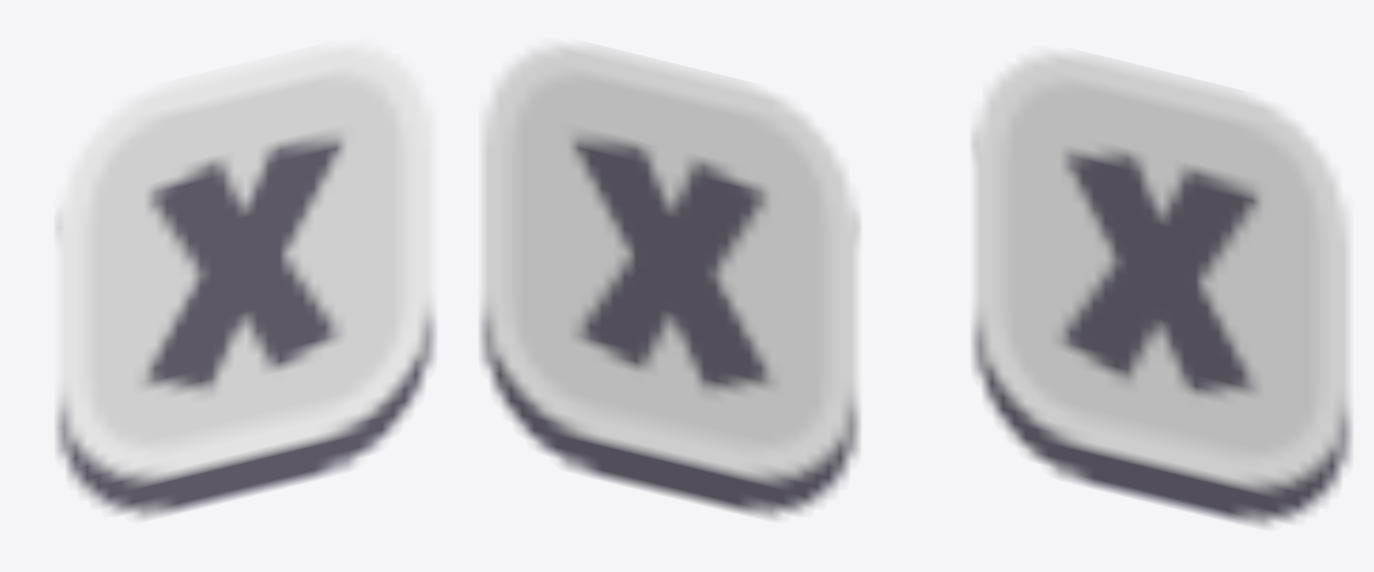
Rendered from MissionPopup.prefab.glb.
The picture shows the model from 3 angles, left to right: view 1: azimuth 30°, elevation 25°; view 2: azimuth 150°, elevation 25°; view 3: azimuth 330°, elevation 25°; orthographic projection.
Parts seen in each view (by area): view 1: CloseButton; view 2: CloseButton; view 3: CloseButton.
Boxes of the visible parts, x1,y1,x2,y2 form: CloseButton: (55, 40, 436, 519); CloseButton: (479, 40, 860, 519); CloseButton: (971, 48, 1352, 527).
Size of what is drawn, in the model's own units: 57.79 by 56.45 by 0.
Materials: 1 (1 with a texture image).
